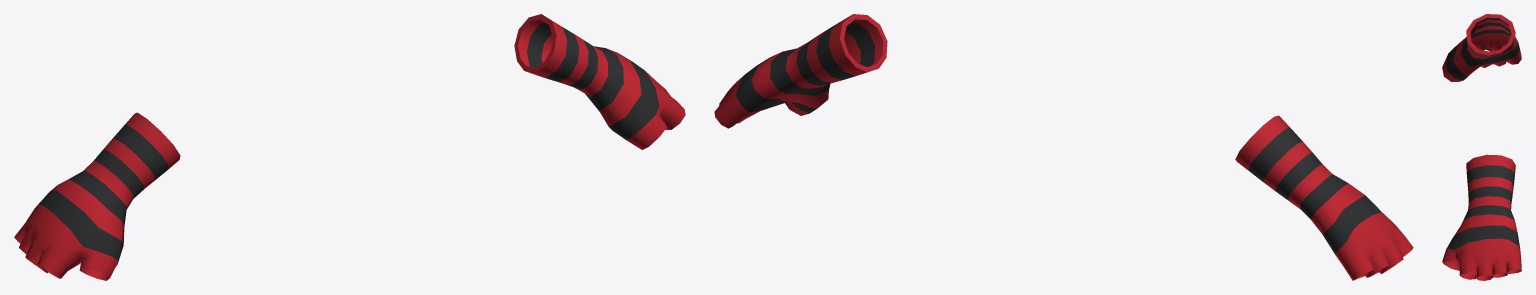
Rendered from Gloves_08.glb.
3 views of the same model, side by side, from view 1: azimuth 30°, elevation 25°; view 2: azimuth 150°, elevation 25°; view 3: azimuth 270°, elevation 25° (orthographic). The views are drawn at different scales.
Visible parts, largest first — view 1: Gloves_08; view 2: Gloves_08; view 3: Gloves_08.
Part boxes in pixels (<box>): Gloves_08: <box>14,14,685,280</box>; Gloves_08: <box>714,14,1413,280</box>; Gloves_08: <box>1442,14,1521,280</box>.
Size of the model in its own units: 0.8069 by 0.1534 by 0.1205.
1 material, 1 textured.
